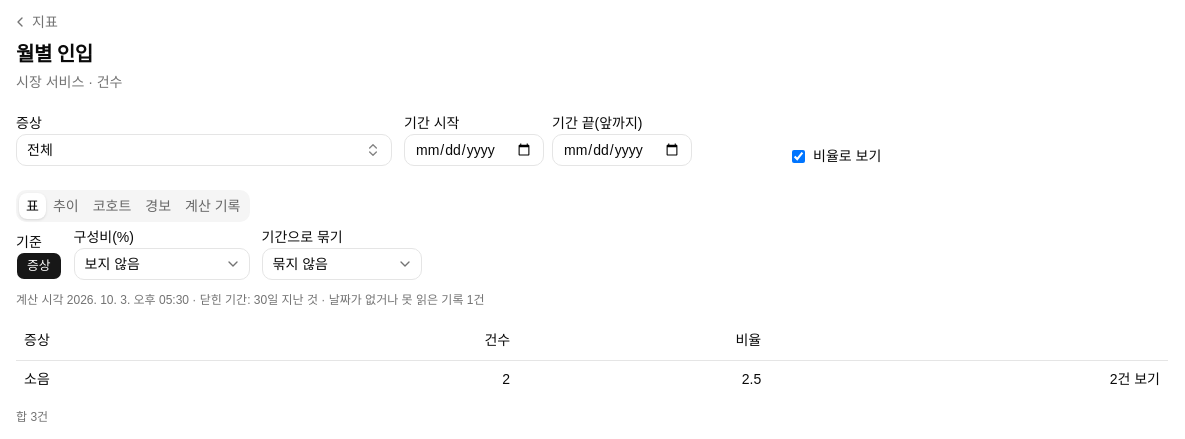
Test: 지표 상세 › 계산 기록은 그 계산이 쓴 규칙 판을 말한다 — 지난달과 왜 다른지
Expected: the heading "월별 인입" is shown, left=16, top=43, right=93, bottom=65
Click the tab "계산 기록".
click(213, 206)  # box left=178, top=193, right=248, bottom=219
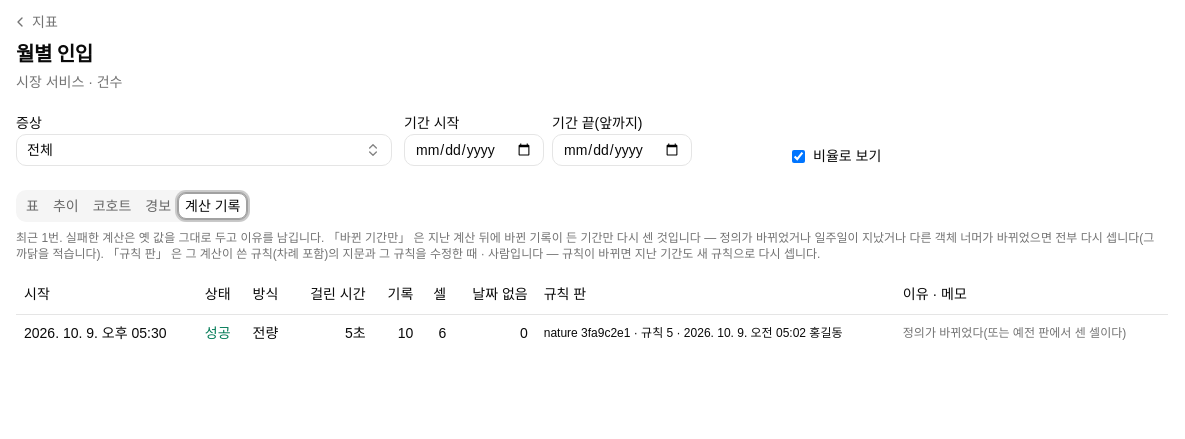
Expected: the column heading "규칙 판" is shown, left=536, top=274, right=895, bottom=314
